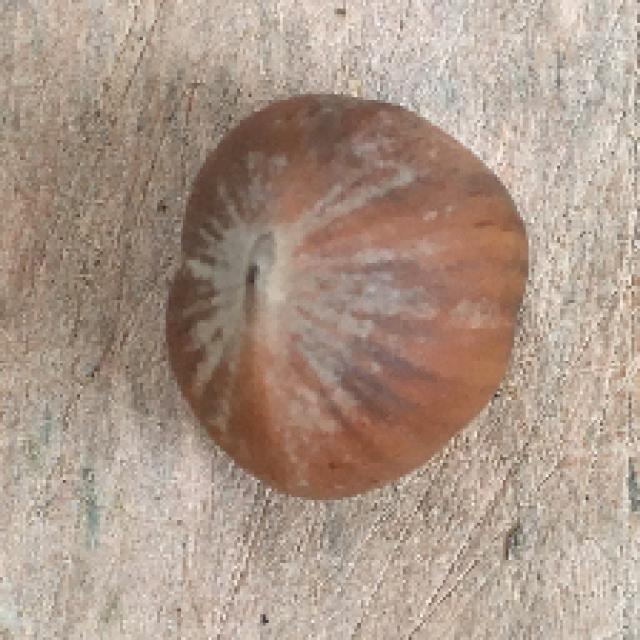damagedHazelnut: (154, 87, 530, 505)
